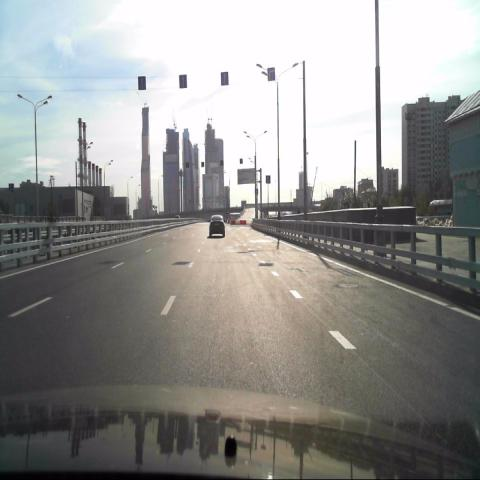5_15_2: (220, 71, 229, 87), (138, 75, 146, 90), (179, 74, 187, 89), (267, 67, 275, 82)
